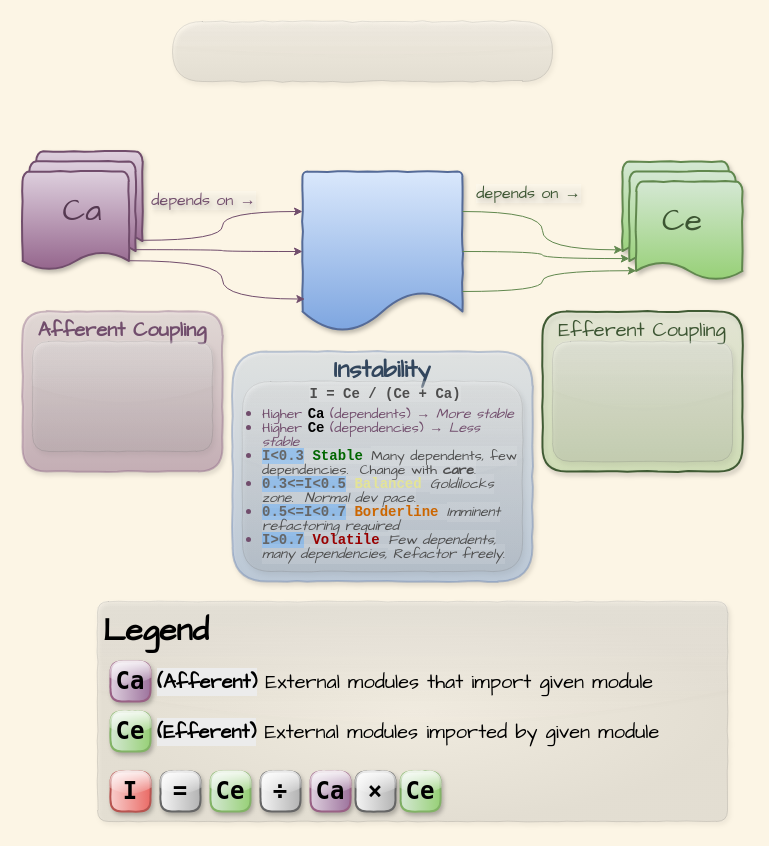
This 769x846 diagram has some shape labels left out. Each missing label, with the centre of its shape:
"Coupling Metrics" belongs at (363,52).
"External Modules imported by given module Higher Ce (dependencies) = Less stable" belongs at (643,402).
"External Modules that import given module Higher Ca (dependents) = more stable" belongs at (123,397).
"Given Module" belongs at (383,252).
